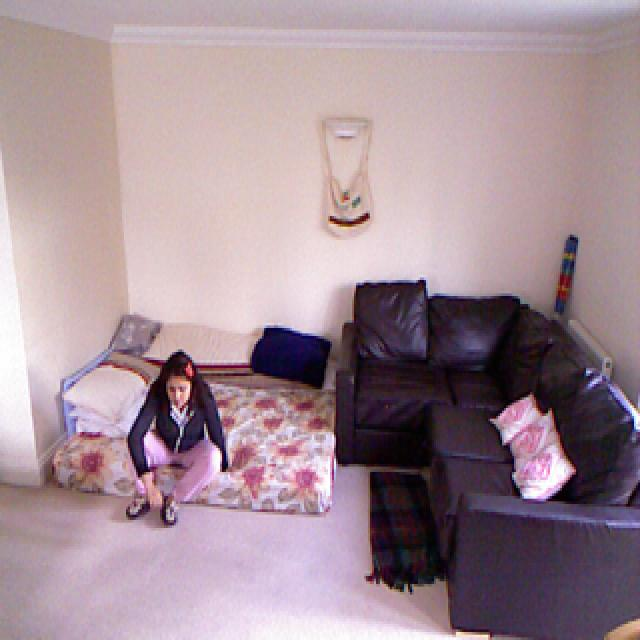sitting: (124, 348, 233, 527)
